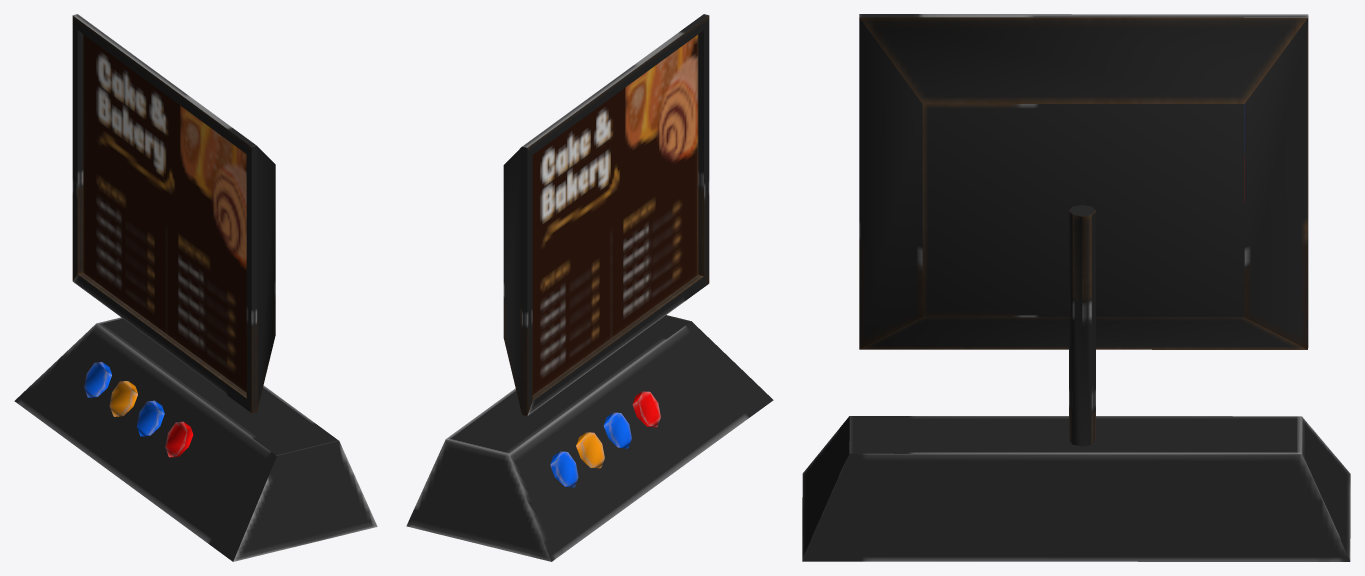
File: Computer_Black.fbx
3 views of the same model, side by side, from view 1: azimuth 30°, elevation 25°; view 2: azimuth 150°, elevation 25°; view 3: azimuth 270°, elevation 25° (orthographic). The views are drawn at different scales.
Visible parts, largest first — view 1: Computer.001; view 2: Computer.001; view 3: Computer.001.
Part boxes in pixels (x1,y1,x2,y2): Computer.001: (14, 14, 377, 561); Computer.001: (406, 14, 773, 561); Computer.001: (802, 14, 1350, 561).
Size of the model in its own units: 7.91 by 20.21 by 20.73.
Materials: 1 (1 with a texture image).
